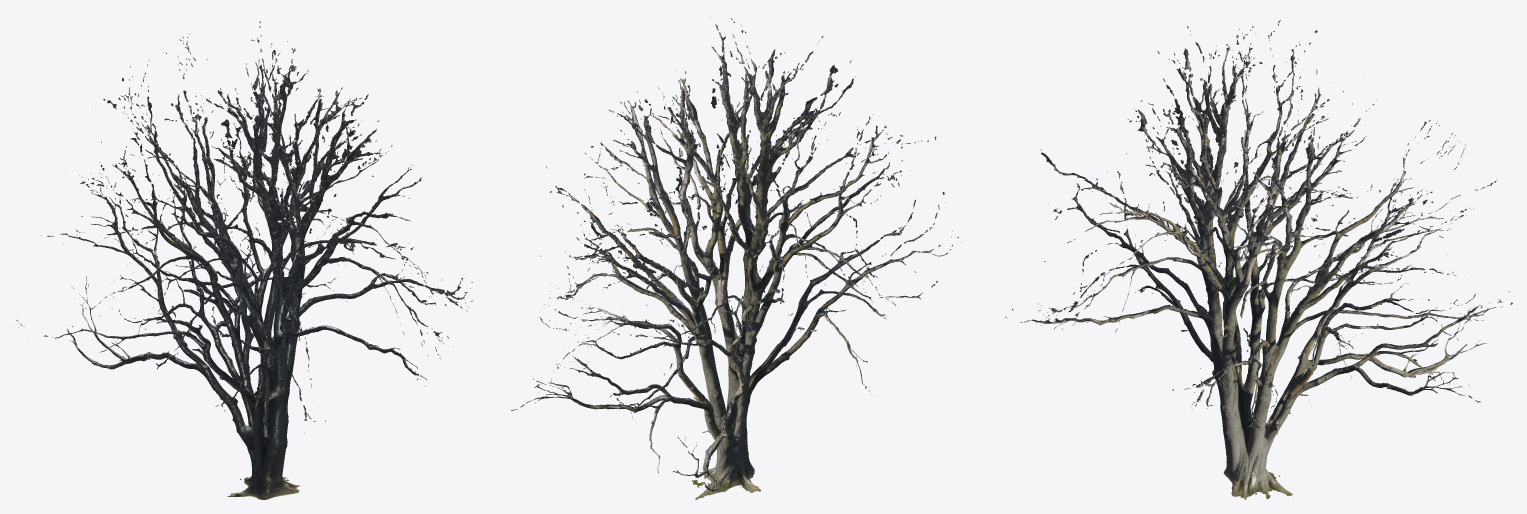
Rendered from tree.glb.
3 views of the same model, side by side, from view 1: azimuth 30°, elevation 25°; view 2: azimuth 150°, elevation 25°; view 3: azimuth 270°, elevation 25° (orthographic). The views are drawn at different scales.
Visible parts, largest first — view 1: Object_2, Object_3, Object_4; view 2: Object_2, Object_3, Object_4; view 3: Object_3, Object_2, Object_4.
Part boxes in pixels (x1,y1,x2,y2): Object_2: [98, 34, 472, 499]; Object_3: [16, 21, 448, 492]; Object_4: [67, 38, 421, 486]; Object_2: [511, 45, 840, 492]; Object_3: [671, 17, 961, 497]; Object_4: [640, 70, 723, 499]; Object_3: [1005, 20, 1451, 499]; Object_2: [1070, 52, 1512, 496]; Object_4: [1143, 76, 1486, 499].
Bounding box in the file's own units: 2.76 × 3.14 × 3.09.
Materials: 1 (1 with a texture image).
